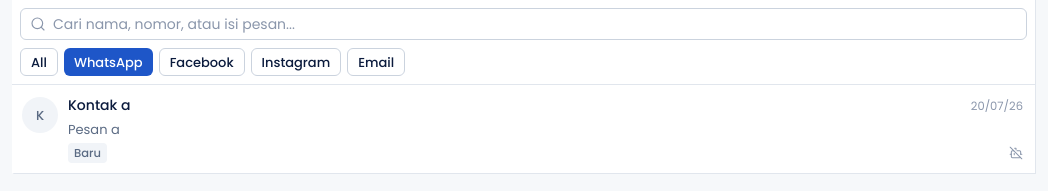
Test case: ConversationList platform badge visibility › shows the platform badge once "All" is selected
Click the button "All".
click(39, 62)  # box x1=20 y1=48 x2=58 y2=76
Wait 300 ms
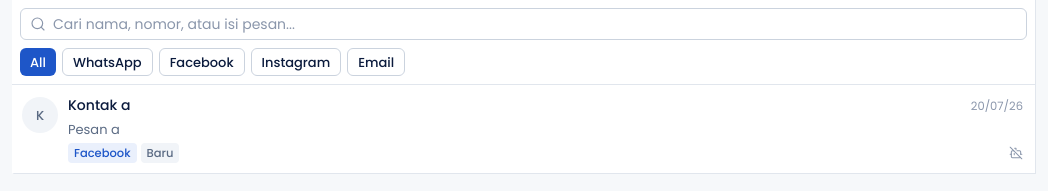
Expected: the text "Facebook" is shown, x1=68 y1=143 x2=137 y2=163
